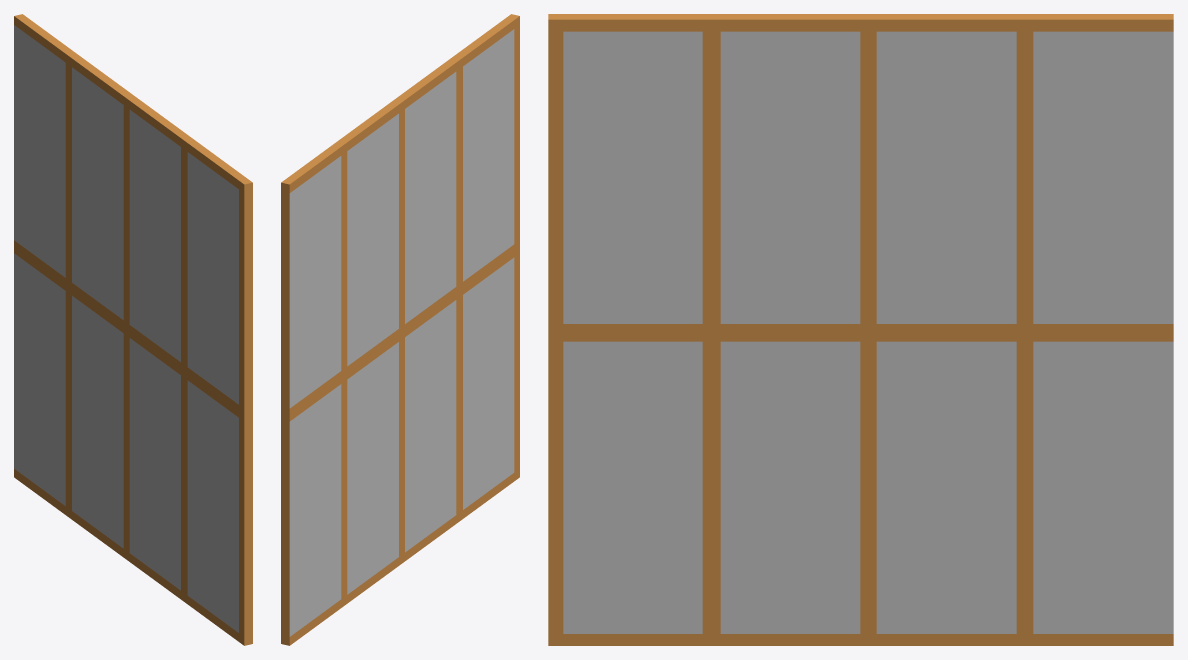
File: wall2.gltf
3 renders of one model, left to right at view 1: azimuth 30°, elevation 25°; view 2: azimuth 150°, elevation 25°; view 3: azimuth 270°, elevation 25°, orthographic. The views are drawn at different scales.
Visible parts, largest first — view 1: Cube_006_Cube.006; view 2: Cube_006_Cube.006; view 3: Cube_006_Cube.006.
Part boxes in pixels (box(x1,y1,x2,y2)): Cube_006_Cube.006: box(14, 14, 252, 645); Cube_006_Cube.006: box(281, 14, 519, 645); Cube_006_Cube.006: box(548, 14, 1173, 645).
Size of the model in its own units: 0.0574 by 3 by 2.71.
